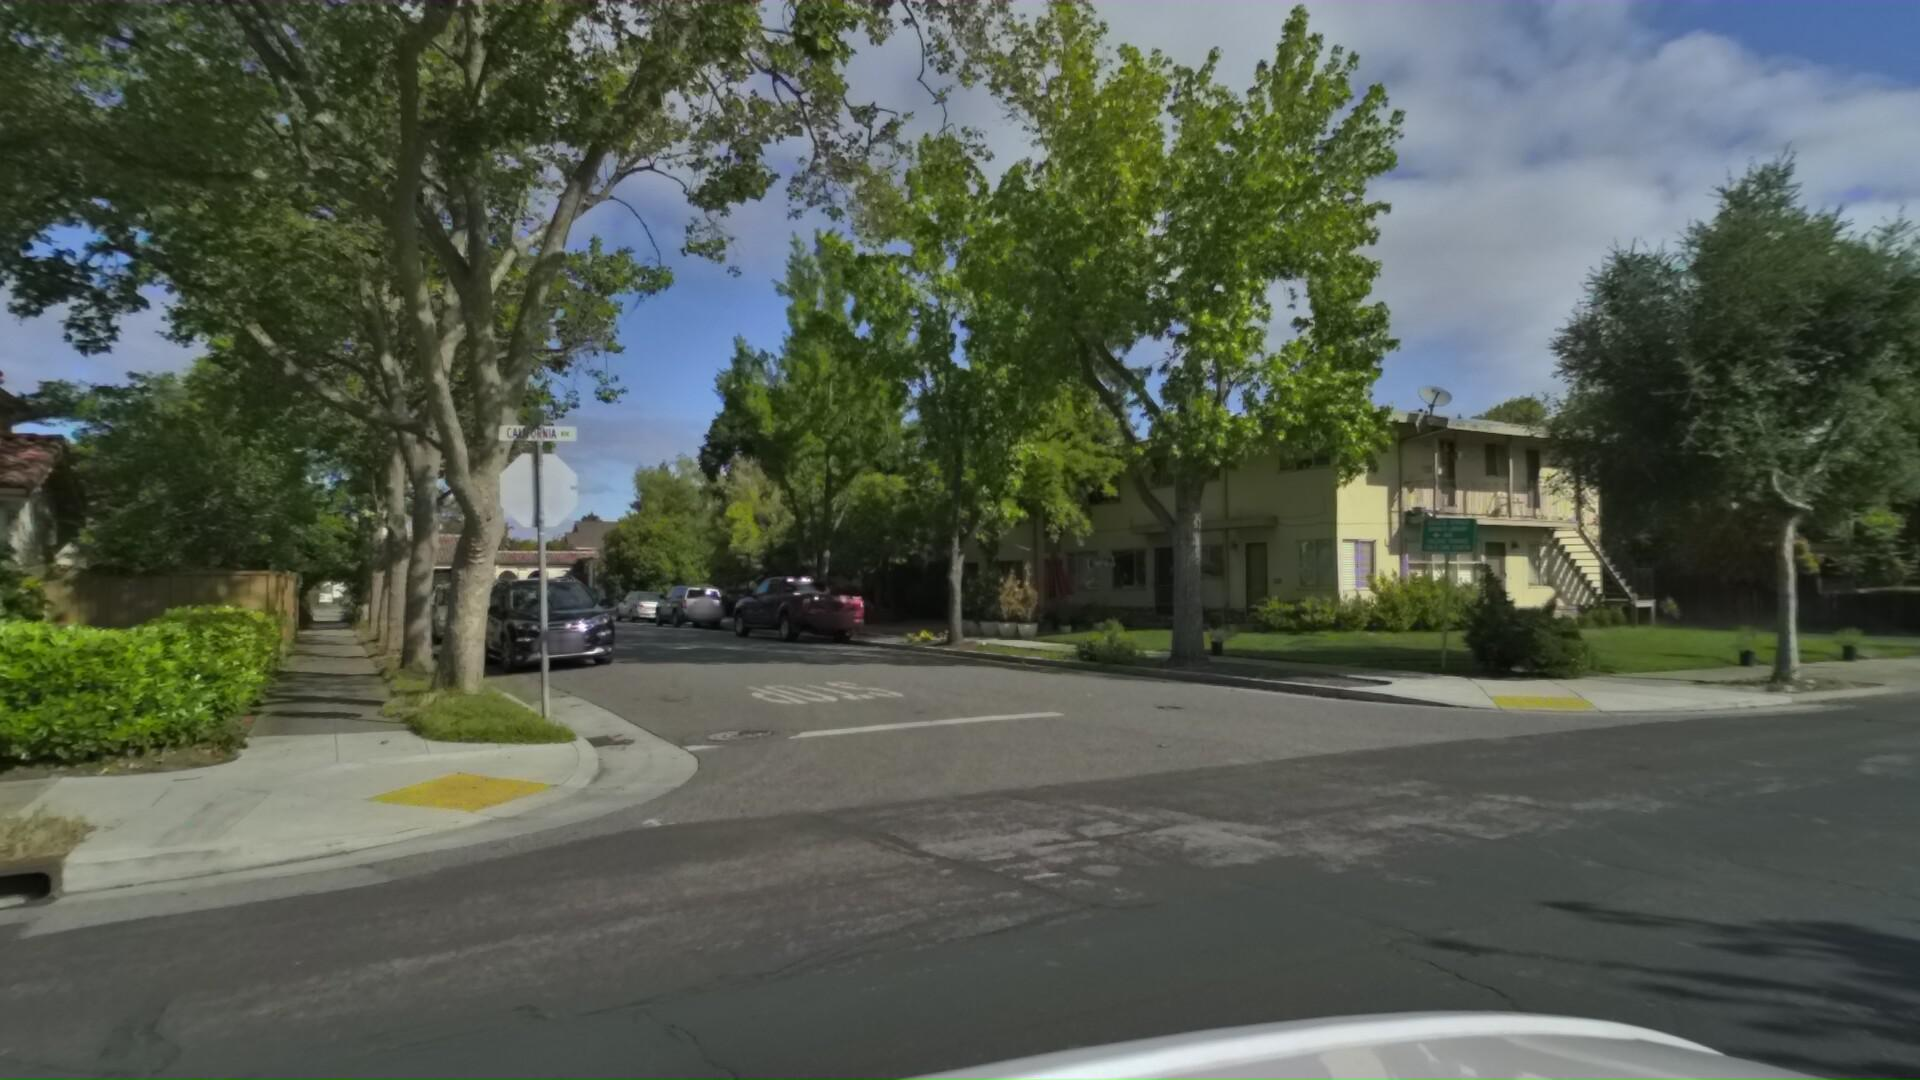car: (458, 567, 616, 676), (719, 570, 865, 650), (415, 578, 510, 644), (640, 583, 725, 632), (601, 587, 671, 628), (375, 585, 438, 626), (526, 585, 579, 615), (510, 582, 549, 603)
